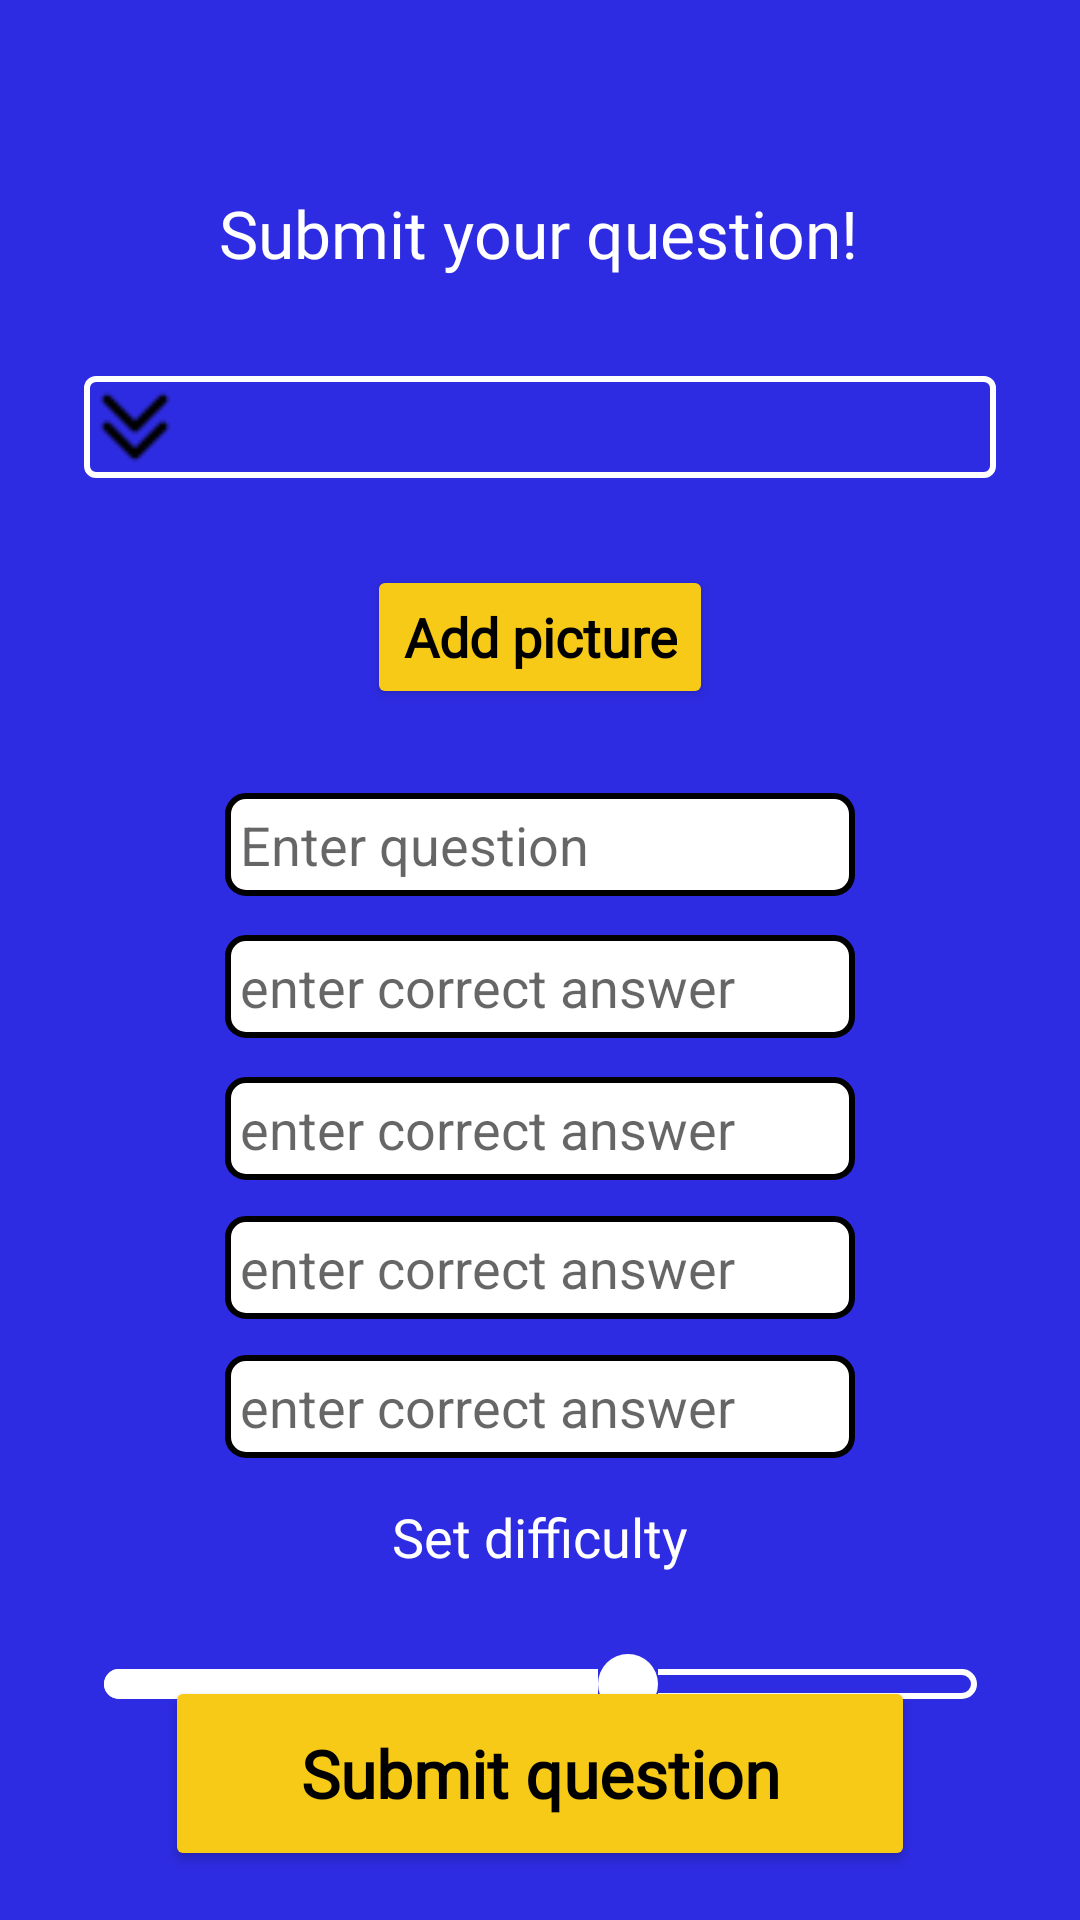

Icons on this 1080 × 1920 Android screen, each with the point to tap as [x,y]:
dropdown: [135,427]
